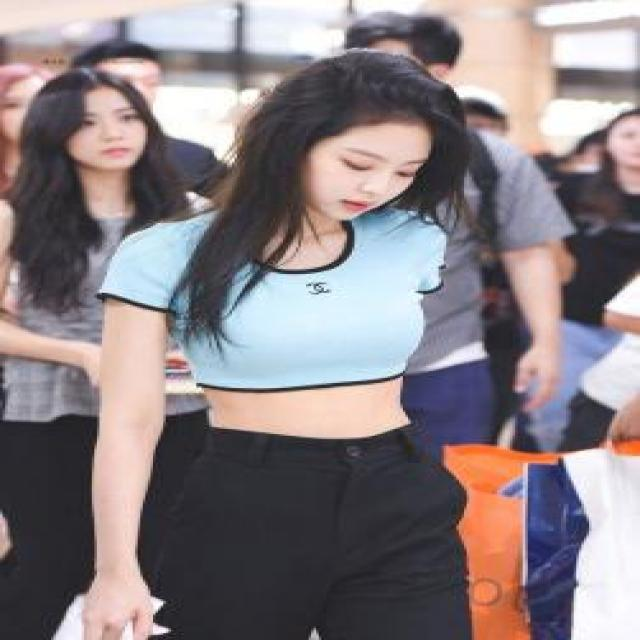clothes: (101, 177, 499, 640)
